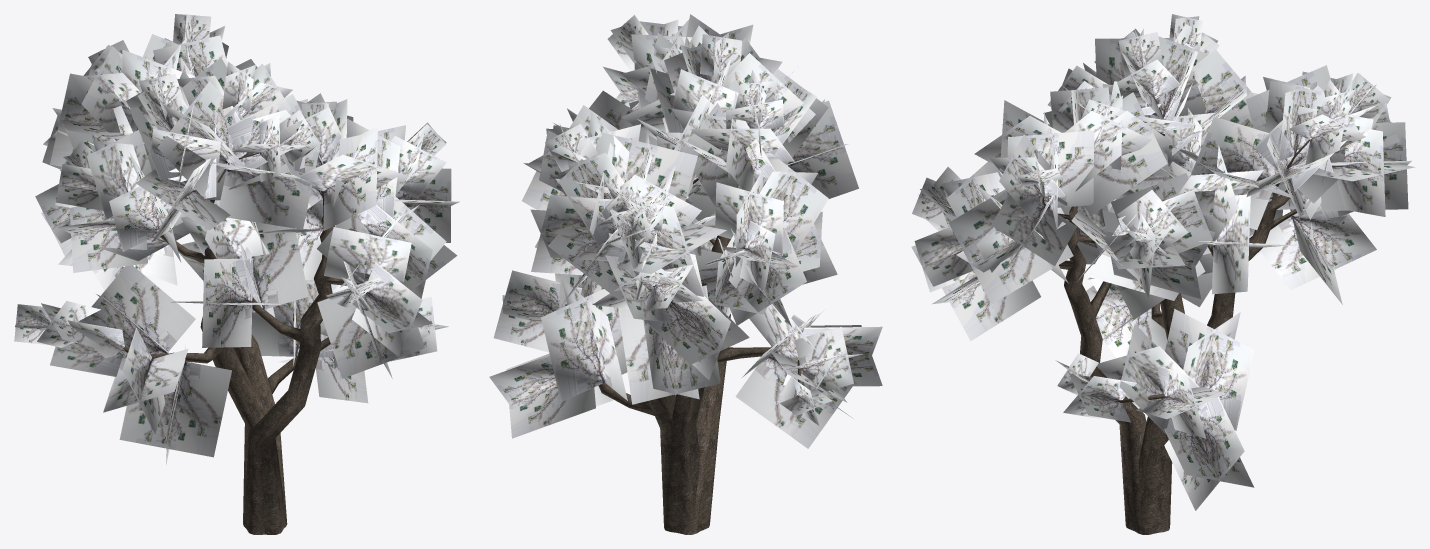
Rendered from TreeWaxCherry-white3-mobile.fbx.
3 views of the same model, side by side, from view 1: azimuth 30°, elevation 25°; view 2: azimuth 150°, elevation 25°; view 3: azimuth 270°, elevation 25° (orthographic). The views are drawn at different scales.
Visible parts, largest first — view 1: TreeWaxCherry-white3-white_LOD0; view 2: TreeWaxCherry-white3-white_LOD0; view 3: TreeWaxCherry-white3-white_LOD0.
Boxes of the visible parts, x1,y1,x2,y2 form: TreeWaxCherry-white3-white_LOD0: (14, 14, 459, 534); TreeWaxCherry-white3-white_LOD0: (489, 14, 882, 534); TreeWaxCherry-white3-white_LOD0: (911, 14, 1415, 534).
Size of what is drawn, in the model's own units: 515 by 642 by 615.
